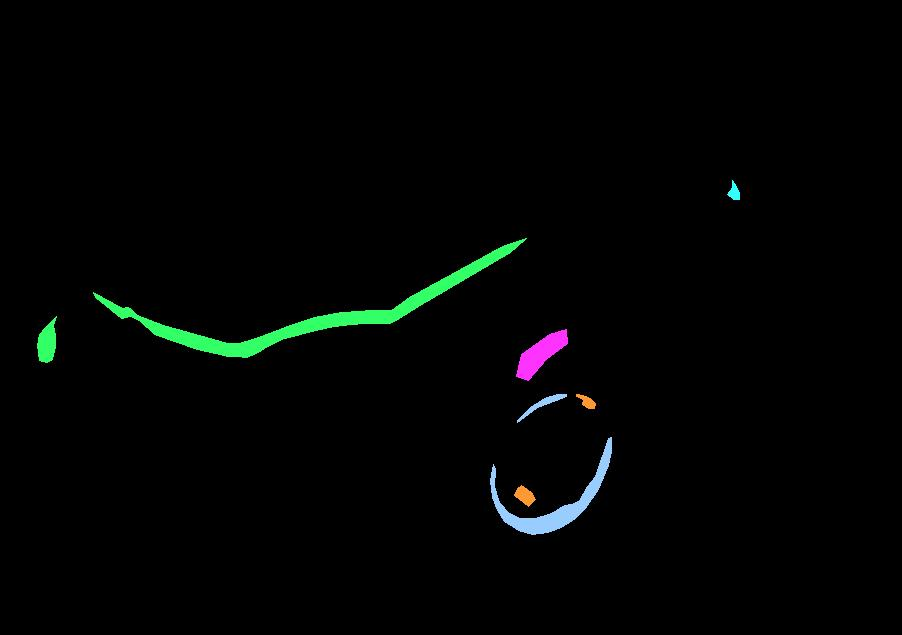Broken part: (93, 238, 526, 357), (37, 316, 56, 362)
Corrosion: (490, 437, 611, 534), (517, 394, 566, 422)
Dent: (516, 329, 567, 380)
Flaking: (727, 180, 739, 199)
Paint chip: (514, 485, 535, 506), (576, 394, 595, 408)
